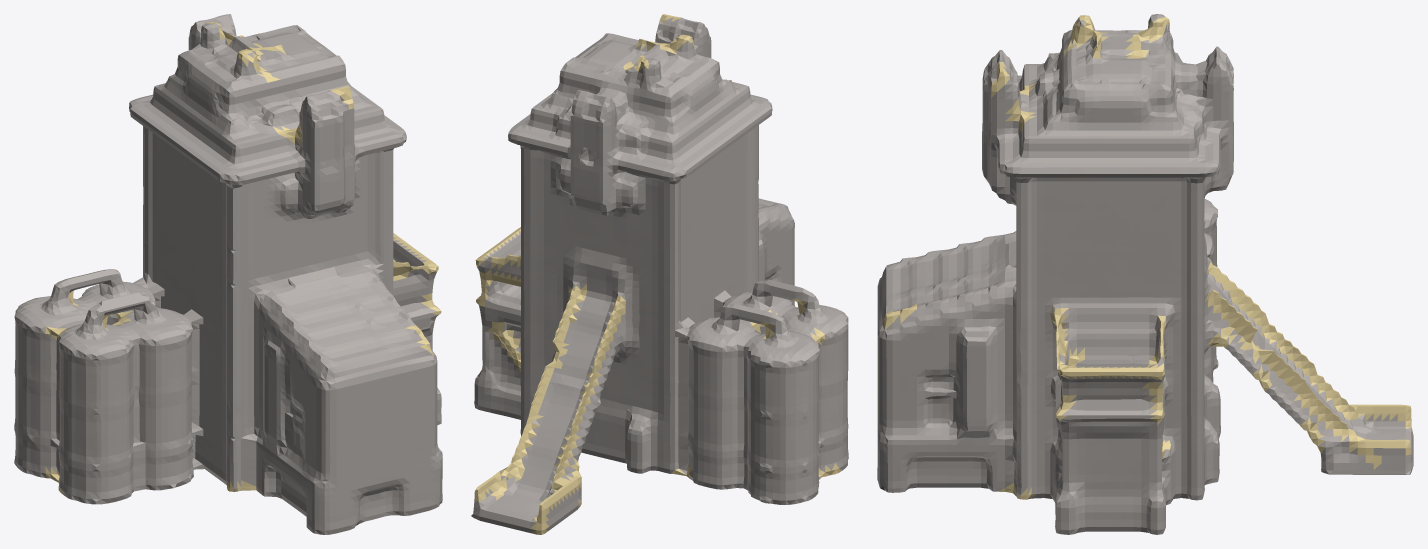
File: bld_refinery.glb
3 views of the same model, side by side, from view 1: azimuth 30°, elevation 25°; view 2: azimuth 150°, elevation 25°; view 3: azimuth 270°, elevation 25° (orthographic). The views are drawn at different scales.
Visible parts, largest first — view 1: Mesh_0.002; view 2: Mesh_0.002; view 3: Mesh_0.002.
Part boxes in pixels (<box>): Mesh_0.002: <box>14,14,442,534</box>; Mesh_0.002: <box>471,14,848,534</box>; Mesh_0.002: <box>877,14,1413,534</box>.
Size of the model in its own units: 4.92 by 5.29 by 6.
